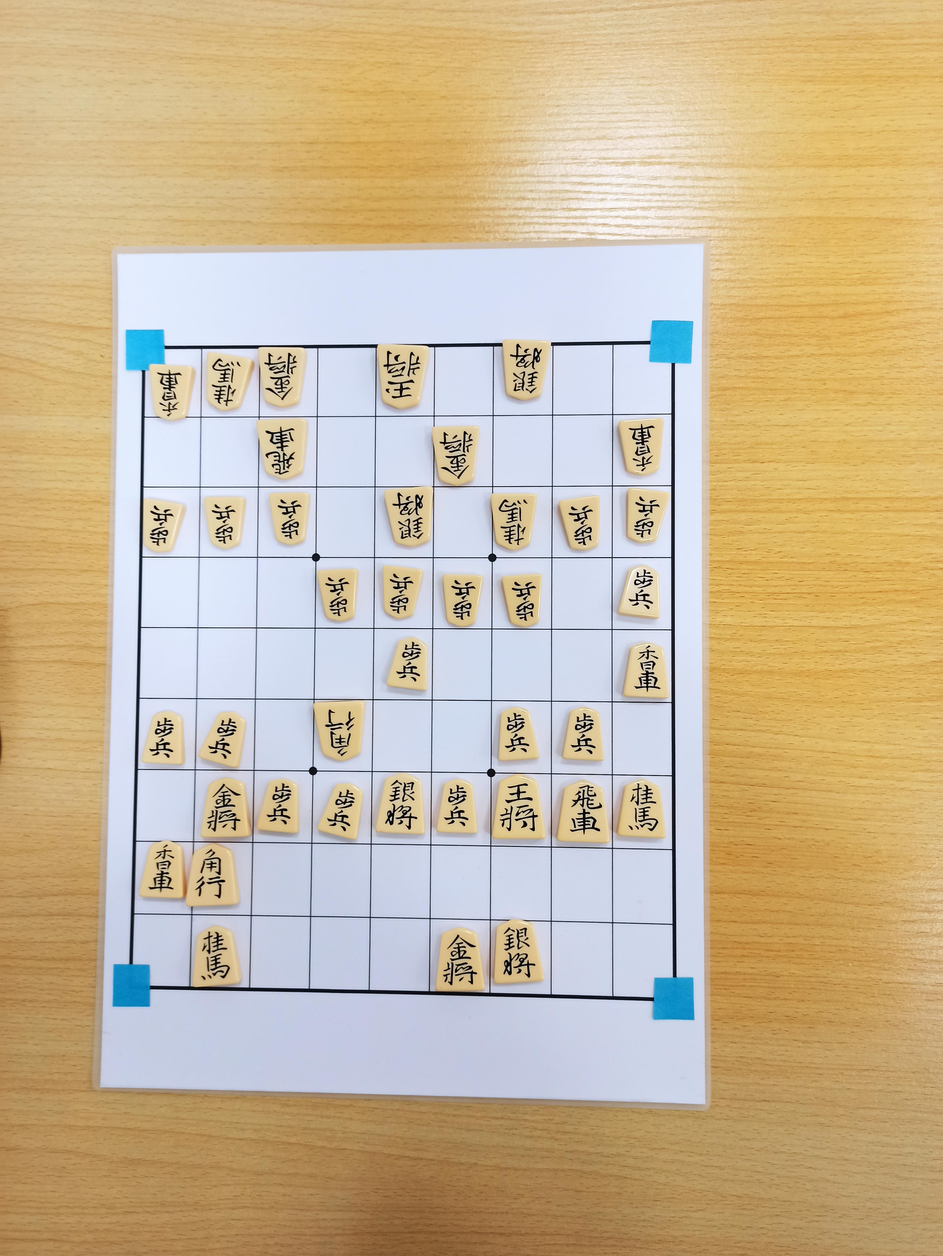board: (131, 342, 675, 998)
